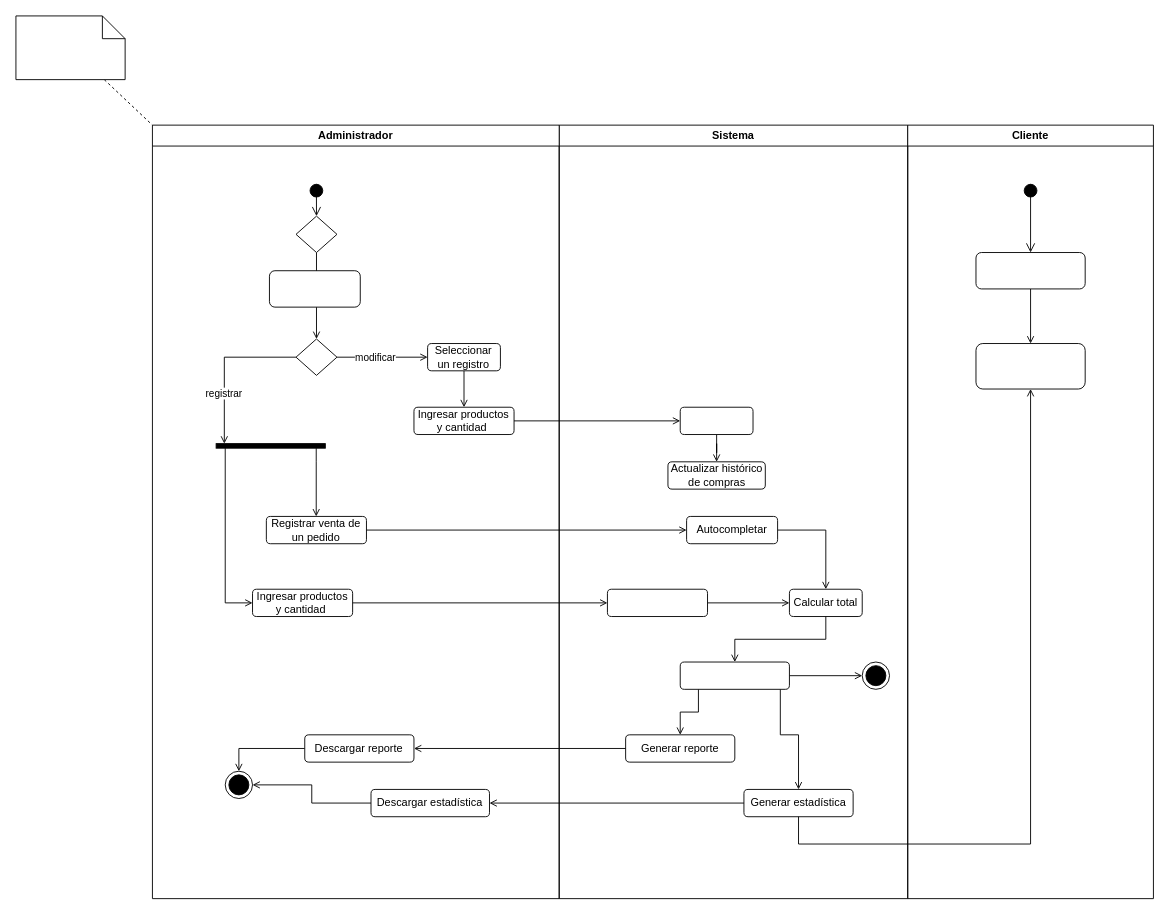
Some shapes in this 1169 by 915 pixel diagram are drawn without their labels. Each missing label, with the centre of its shape:
"Actualizar inventario" goes at point (657, 602).
"Empleado" goes at point (70, 47).
"Generar comprobante de pago" goes at point (734, 675).
"Gestionar venta" goes at point (314, 288).
"Guardar cambios" goes at point (716, 420).
"Muestra productos más vendidos" goes at point (1030, 366).
"Ver productos por catalogo" goes at point (1030, 270).
